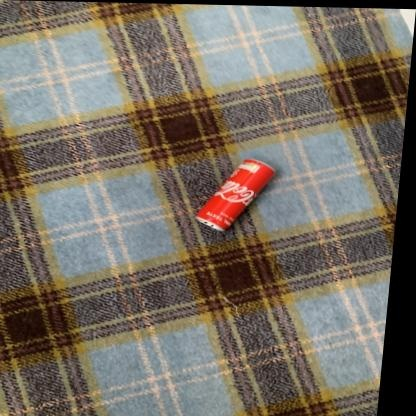trash: (196, 160, 274, 230)
